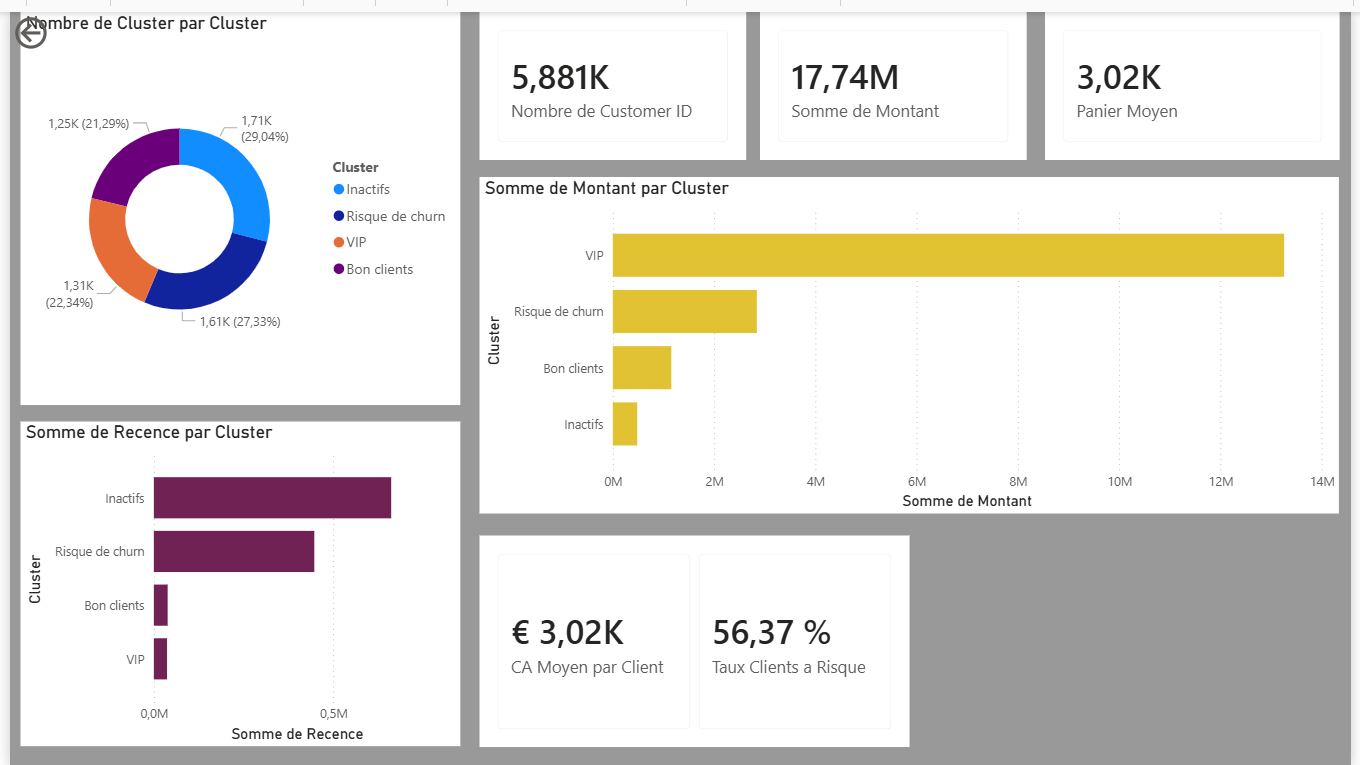

Layout of this report page (visuals, bound fields, positions):
{"tool":"powerbi","page":{"name":"Page 1","canvas":[1280,720],"ordinal":0},"visuals":[{"type":"donutChart","fields":{"Category":["segmentation_finale.Cluster"],"Y":["CountNonNull(segmentation_finale.Cluster)"]},"box":[9.5,0,419.9,375.4],"z":0},{"type":"actionButton","box":[0,0,100,40],"z":1000},{"type":"cardVisual","fields":{"Data":["CountNonNull(segmentation_finale.Customer ID)"]},"box":[448.6,0,254.5,141.6],"z":2000},{"type":"cardVisual","fields":{"Data":["Sum(segmentation_finale.Montant)"]},"box":[715.8,0,254.5,141.6],"z":3000},{"type":"cardVisual","fields":{"Data":["segmentation_finale.Panier Moyen"]},"box":[987.8,0,281.5,141.6],"z":4000},{"type":"clusteredBarChart","fields":{"Category":["segmentation_finale.Cluster"],"Y":["Sum(segmentation_finale.Recence)"]},"box":[9.5,391.3,419.9,310.2],"z":6000},{"type":"clusteredBarChart","fields":{"Category":["segmentation_finale.Cluster"],"Y":["Sum(segmentation_finale.Montant)"]},"box":[448.6,157.5,820.8,321.3],"z":6001},{"type":"cardVisual","fields":{"Data":["segmentation_finale.CA Moyen par Client","segmentation_finale.Taux Clients a Risque"]},"box":[448.6,499.5,410.4,202],"z":6003}]}

Visuals, with their boxes in screenshot pixels (x1, y1, x2, y2), scaled from the page's 1280x720 canvas onto the 1360x765 screenshot:
donutChart - segmentation_finale.Cluster x CountNonNull(segmentation_finale.Cluster): (x1=10, y1=0, x2=456, y2=399)
actionButton: (x1=0, y1=0, x2=106, y2=42)
cardVisual - CountNonNull(segmentation_finale.Customer ID): (x1=477, y1=0, x2=747, y2=150)
cardVisual - Sum(segmentation_finale.Montant): (x1=761, y1=0, x2=1031, y2=150)
cardVisual - segmentation_finale.Panier Moyen: (x1=1050, y1=0, x2=1349, y2=150)
clusteredBarChart - segmentation_finale.Cluster x Sum(segmentation_finale.Recence): (x1=10, y1=416, x2=456, y2=745)
clusteredBarChart - segmentation_finale.Cluster x Sum(segmentation_finale.Montant): (x1=477, y1=167, x2=1349, y2=509)
cardVisual - segmentation_finale.CA Moyen par Client x segmentation_finale.Taux Clients a Risque: (x1=477, y1=531, x2=913, y2=745)
